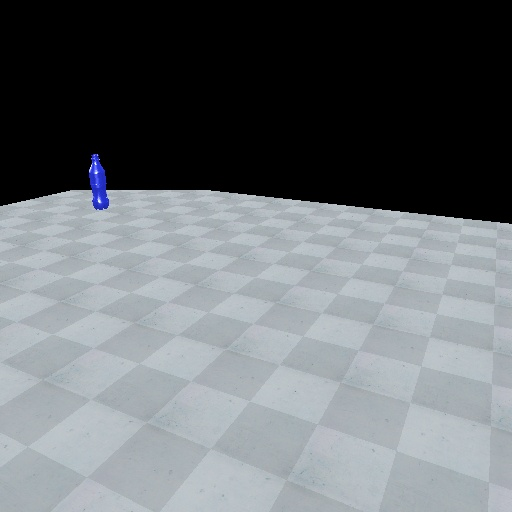bottle: (85, 152, 112, 211)
